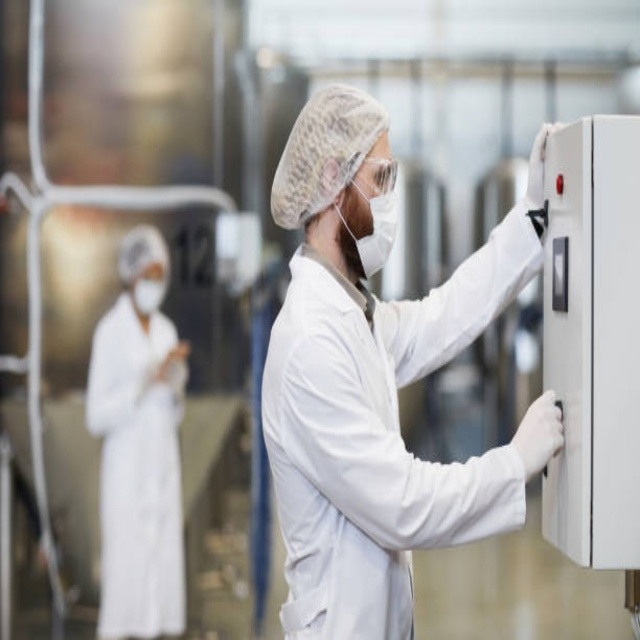Gafas: (349, 155, 398, 198)
Guantes: (509, 384, 566, 483), (524, 118, 571, 212)
Mascara: (348, 163, 399, 279), (133, 276, 166, 315)
